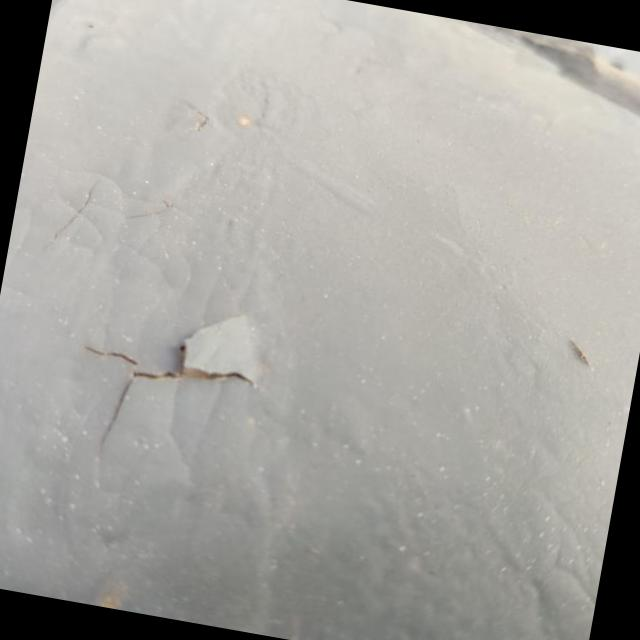Paint-off: (55, 264, 277, 463)
